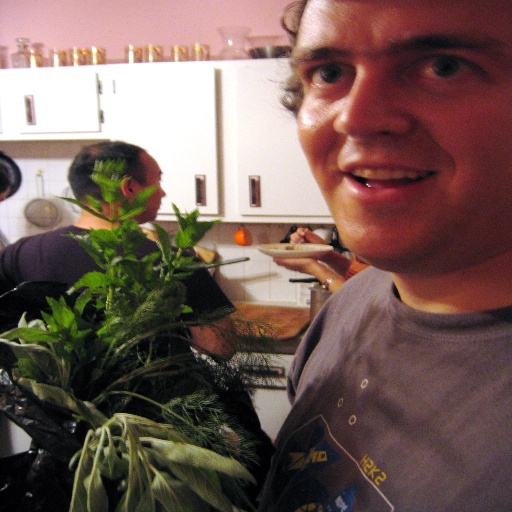hand: (270, 258, 323, 273), (286, 225, 328, 242)
